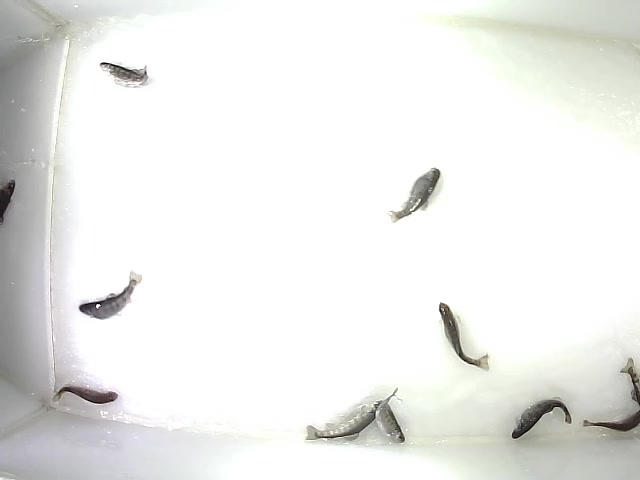fish: (437, 301, 491, 373), (76, 269, 144, 321), (304, 399, 385, 442), (385, 166, 443, 224), (510, 394, 574, 440), (373, 387, 406, 445), (51, 384, 119, 407), (580, 408, 640, 433), (99, 60, 151, 85)
